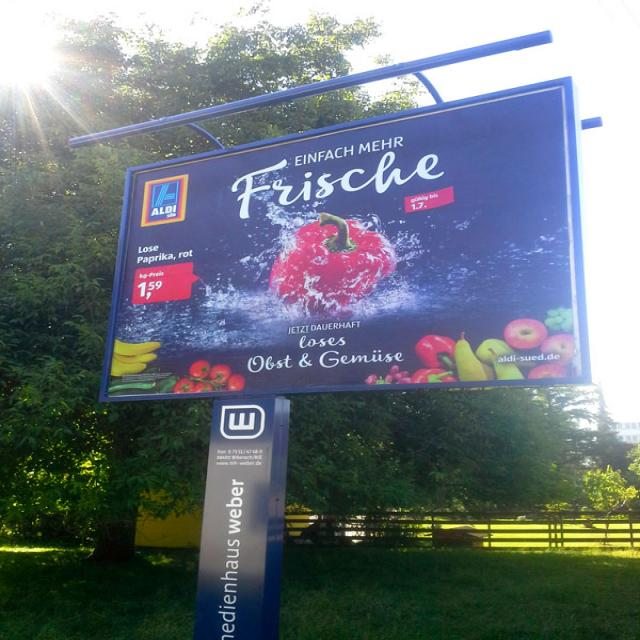Werbetafel frei: (81, 73, 595, 405)
